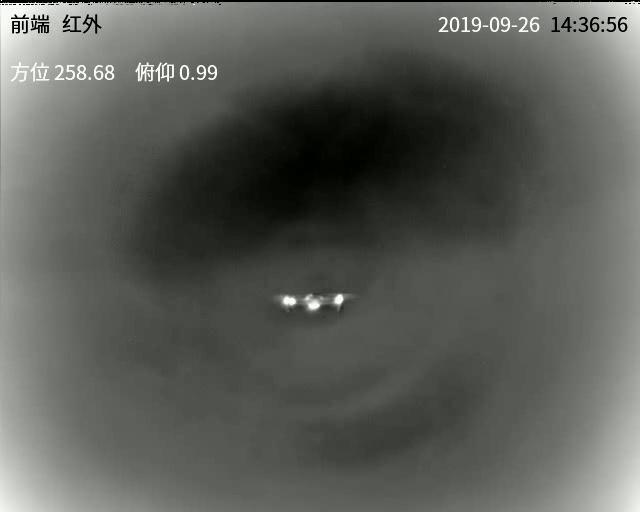DRONE: (280, 292, 347, 318)
